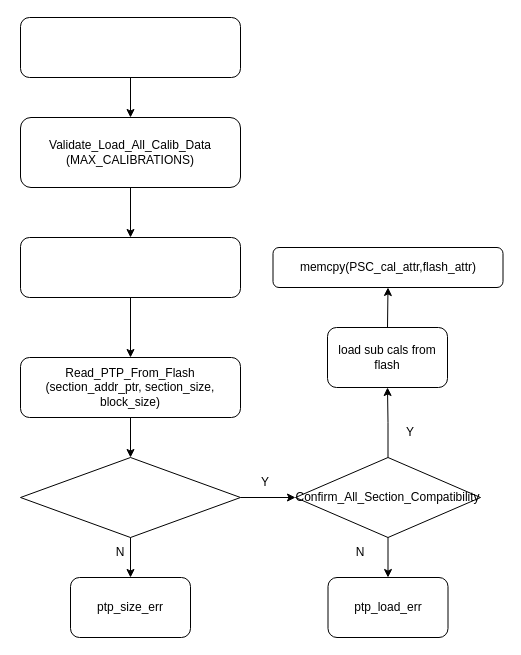
Some shapes in this 521 by 655 pixel diagram are drawn without their labels. Here are the shapes that lost their labels. From the top down, the centre of each, then its label:
(x=130, y=47): EcuM_AL_DriverInitOne_RDR01
(x=130, y=267): Validate_Load_Calib_Data(ptp_no)
(x=130, y=497): sw_h2_ptr->section_size == ptp_read_result->section_hdr.file_size
